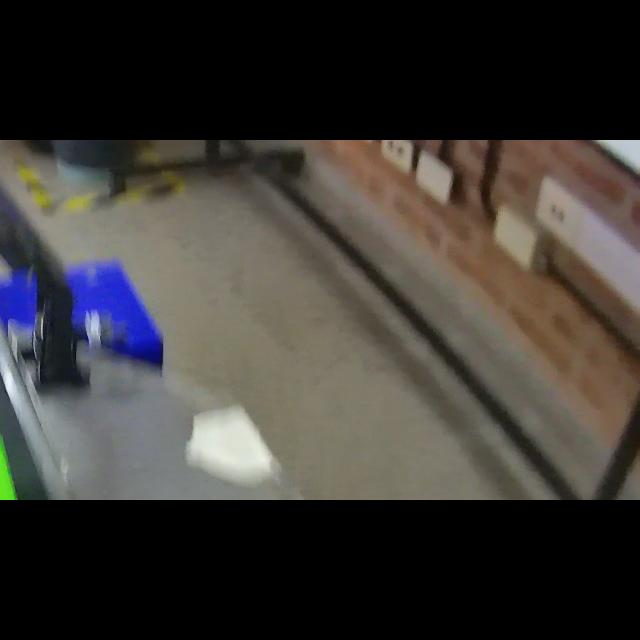greenBox: (0, 426, 38, 499)
